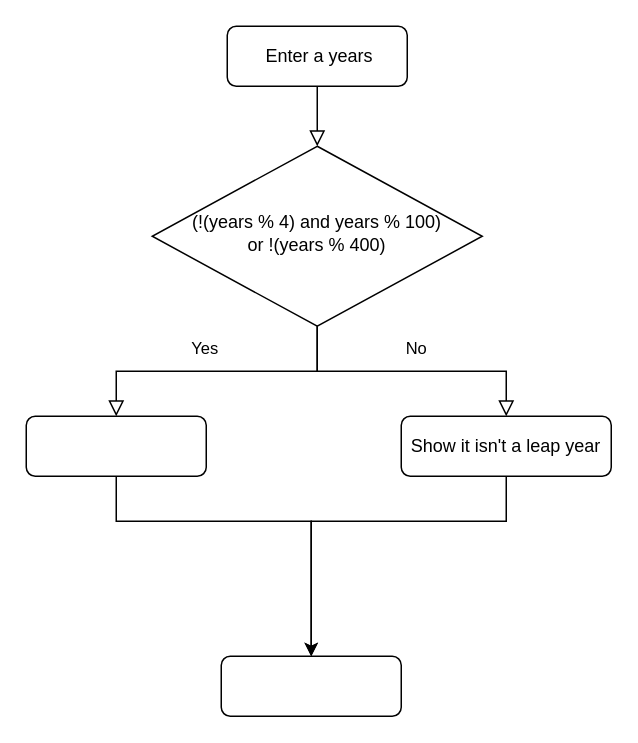
This 638x743 diagram has some shape labels left out. Each missing label, with the box of its shape:
Show it is a leap year: (25, 415, 206, 476)
The end of program: (220, 655, 401, 716)
